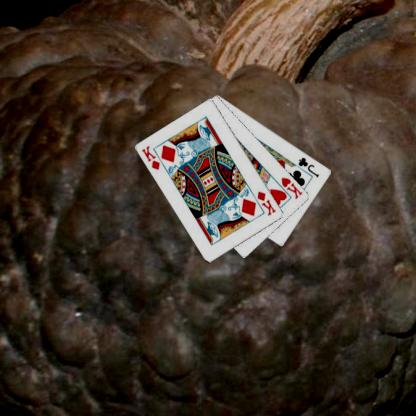JC: (296, 154, 321, 178)
KD: (139, 143, 162, 172), (255, 188, 277, 218)
KH: (279, 174, 304, 200)
